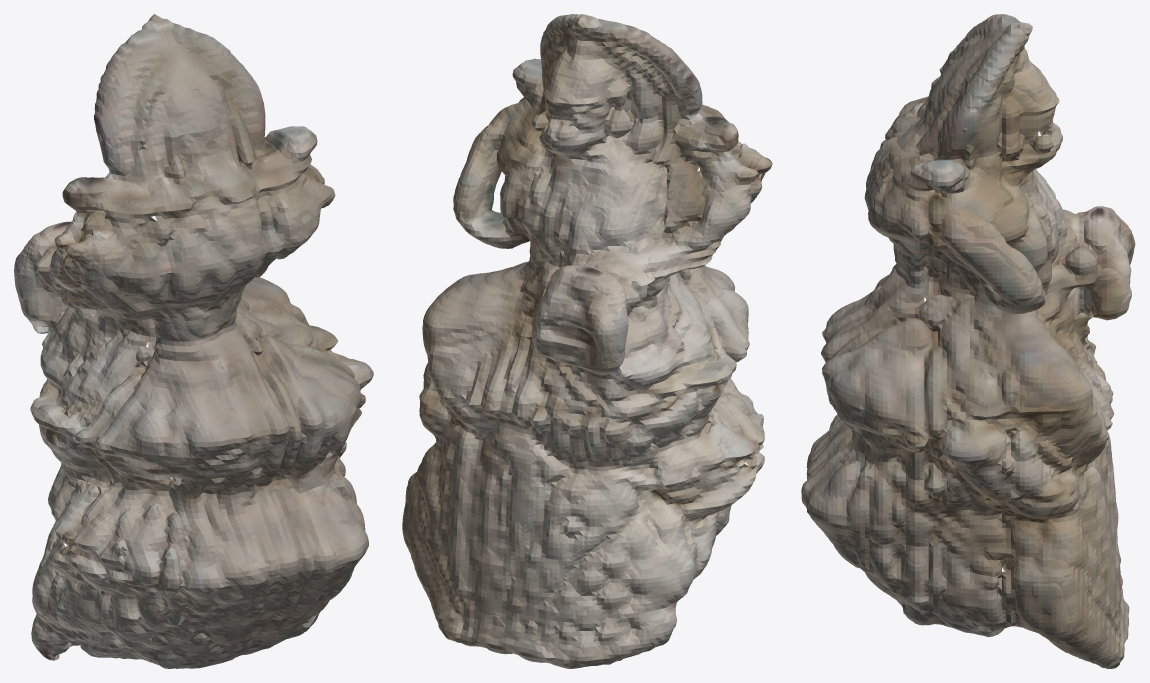
The model's file is fonte-de-lakshmi.glb.
3 views of the same model, side by side, from view 1: azimuth 30°, elevation 25°; view 2: azimuth 150°, elevation 25°; view 3: azimuth 270°, elevation 25° (orthographic). The views are drawn at different scales.
Visible parts, largest first — view 1: geometry_0; view 2: geometry_0; view 3: geometry_0.
Boxes of the visible parts, box(x1,y1,x2,y2) form: geometry_0: box(14, 14, 373, 668); geometry_0: box(402, 14, 772, 668); geometry_0: box(801, 14, 1135, 668).
Size of the model in its own units: 0.5265 by 0.9947 by 0.4992.
